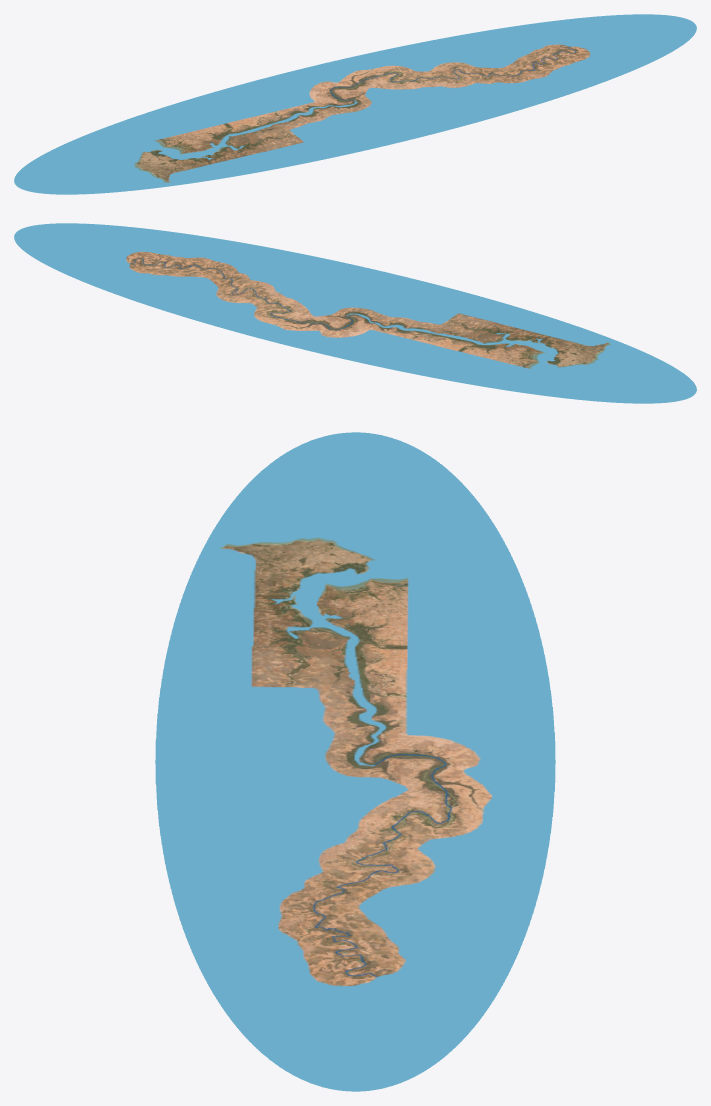
Rendered from GMB-previa-terrain.glb.
The picture shows the model from 3 angles, top to bottom: view 1: azimuth 30°, elevation 25°; view 2: azimuth 150°, elevation 25°; view 3: azimuth 270°, elevation 25°; orthographic projection. The views are drawn at different scales.
Visible parts, largest first — view 1: Gâmbia; view 2: Gâmbia; view 3: Gâmbia.
Boxes of the visible parts, left/top/right/bottom form: Gâmbia: left=14, top=14, right=696, bottom=194; Gâmbia: left=14, top=223, right=696, bottom=403; Gâmbia: left=155, top=432, right=555, bottom=1091.
Bounding box in the file's own units: 2.58 × 0.00238 × 0.6633.
Materials: 1 (1 with a texture image).
